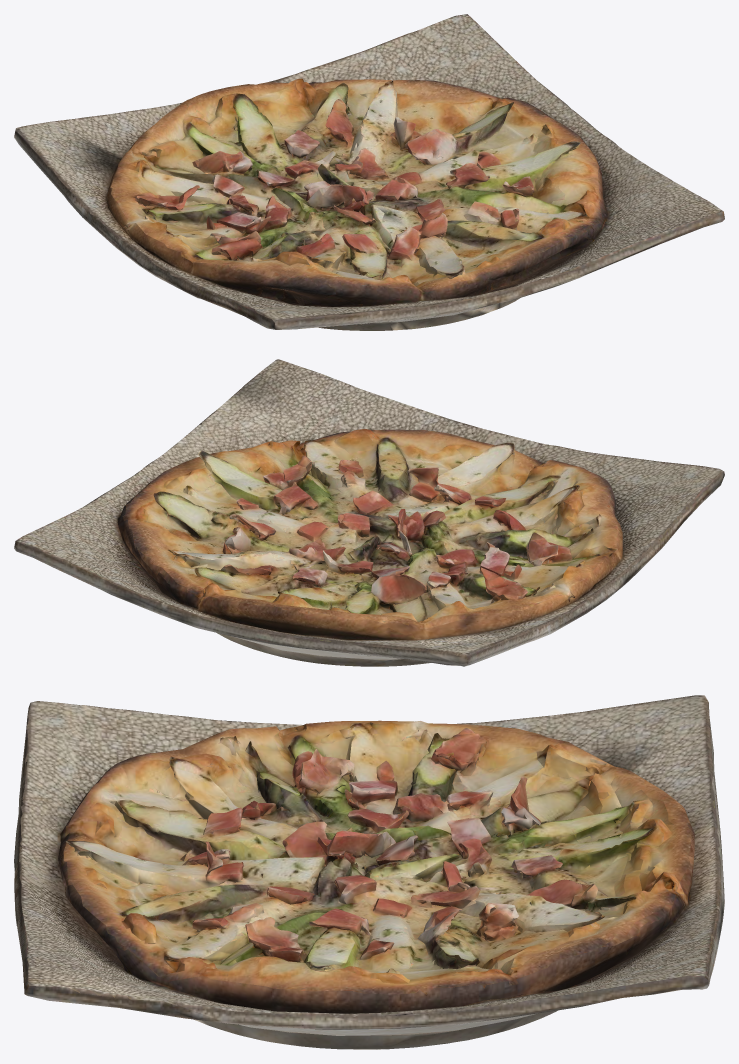
Rendered from pizza-aspargos-v03.glb.
The picture shows the model from 3 angles, top to bottom: view 1: azimuth 30°, elevation 25°; view 2: azimuth 150°, elevation 25°; view 3: azimuth 270°, elevation 25°; orthographic projection. The views are drawn at different scales.
Parts seen in each view (by area): view 1: Object_2; view 2: Object_2; view 3: Object_2.
Boxes of the visible parts, <box> form: Object_2: <box>14,14,724,330</box>; Object_2: <box>14,359,724,666</box>; Object_2: <box>14,695,724,1049</box>.
Size of the model in its own units: 0.3 by 0.0547 by 0.3001.
1 material, 1 textured.
